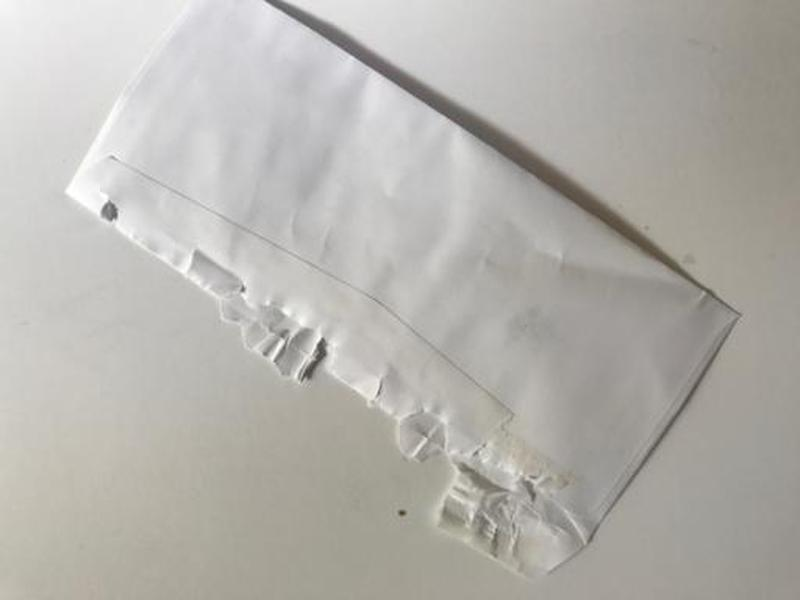paper: (58, 1, 750, 585)
